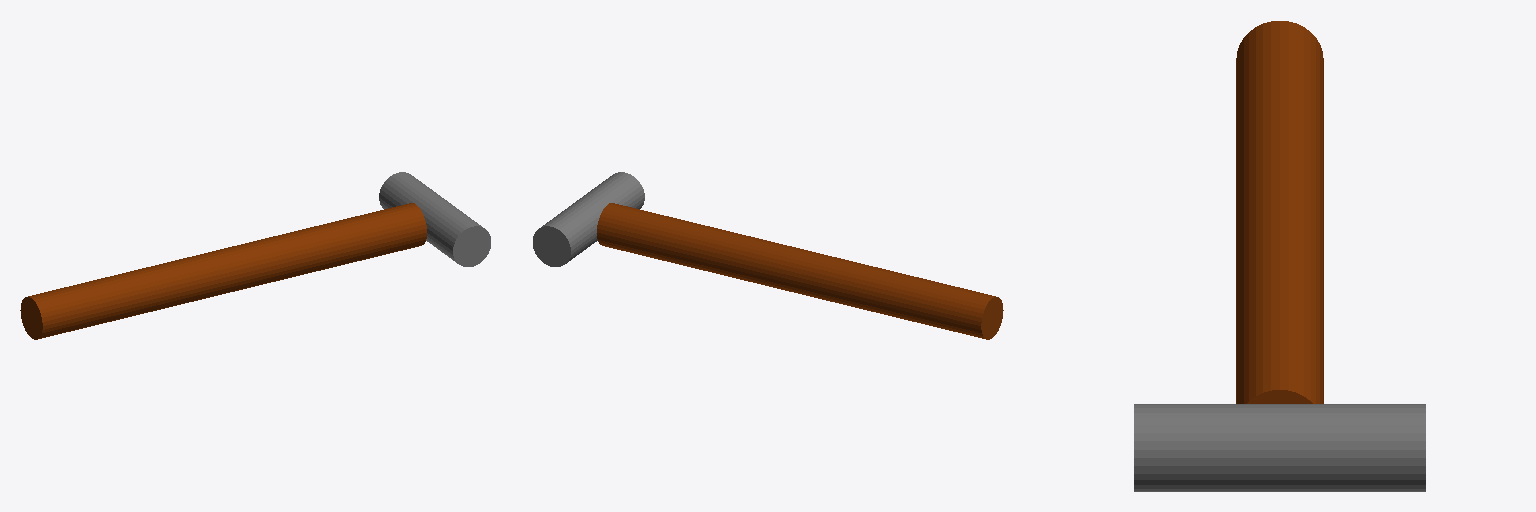
URDF robot description (cylindrical_hammer):
<?xml version="1.0"?>
<robot name="cylindrical_hammer">

  <link name="hammer">
    <!-- Handle -->
    <visual>
      <origin xyz="0 0 0" rpy="0 -1.5707963267948966 0"/>
      <geometry>
        <cylinder radius="0.02625" length="0.525"/>
      </geometry>
      <material name="brown">
        <color rgba="0.55 0.27 0.07 1.0"/>
      </material>
    </visual>
    <collision>
      <origin xyz="0 0 0" rpy="0 -1.5707963267948966 0"/>
      <geometry>
        <cylinder radius="0.02625" length="0.525"/>
      </geometry>
    </collision>

    <!-- Head -->
    <visual>
      <origin xyz="0.28875 0 0" rpy="1.5707963267948966 0 0"/>
      <geometry>
        <cylinder radius="0.02625" length="0.17500000000000002"/>
      </geometry>
      <material name="gray">
        <color rgba="0.5 0.5 0.5 1.0"/>
      </material>
    </visual>
    <collision>
      <origin xyz="0.28875 0 0" rpy="1.5707963267948966 0 0"/>
      <geometry>
        <cylinder radius="0.02625" length="0.17500000000000002"/>
      </geometry>
    </collision>

    <inertial>
      <mass value="0.375"/>
      <inertia ixx="0.0001" iyy="0.0001" izz="0.0001" ixy="0" ixz="0" iyz="0"/>
    </inertial>
  </link>

</robot>

--- What the picture shows (computed from the rendered views, not written in the file) ---
Views: 3 orthographic renders of the robot side by side, from view 1: azimuth 30°, elevation 25°; view 2: azimuth 150°, elevation 25°; view 3: azimuth 270°, elevation 25°.
Robot: cylindrical_hammer — 1 links, 0 joints (none); root link hammer; default pose: all joints at 0.
Links seen in each view (by area): view 1: hammer; view 2: hammer; view 3: hammer.
Boxes of the visible links, x1,y1,x2,y2 form: hammer: (20,172,490,339); hammer: (533,172,1003,339); hammer: (1134,21,1425,491).
Bounding box of the posed robot: 0.5775 × 0.175 × 0.0525 m (x, y, z).
Geometry: primitives only (box / cylinder / sphere), no mesh files.
